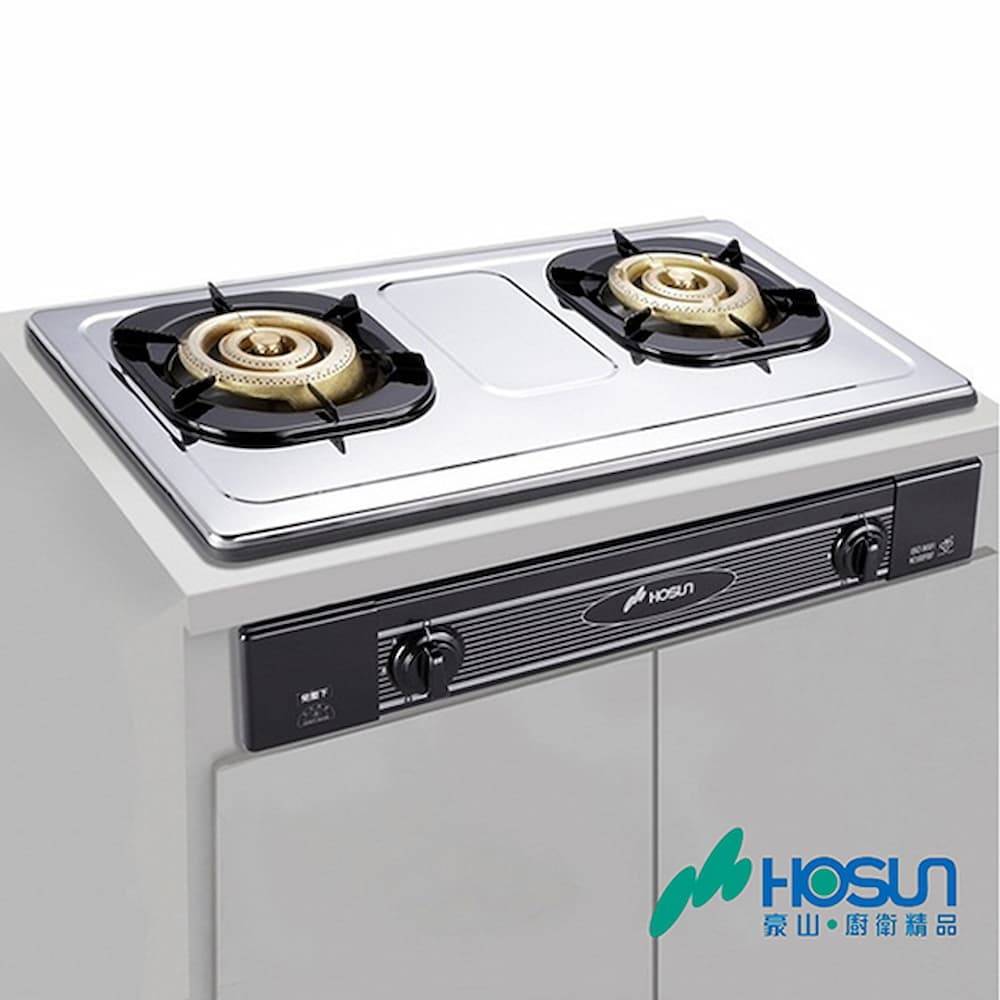gasoven: (19, 211, 986, 750)
